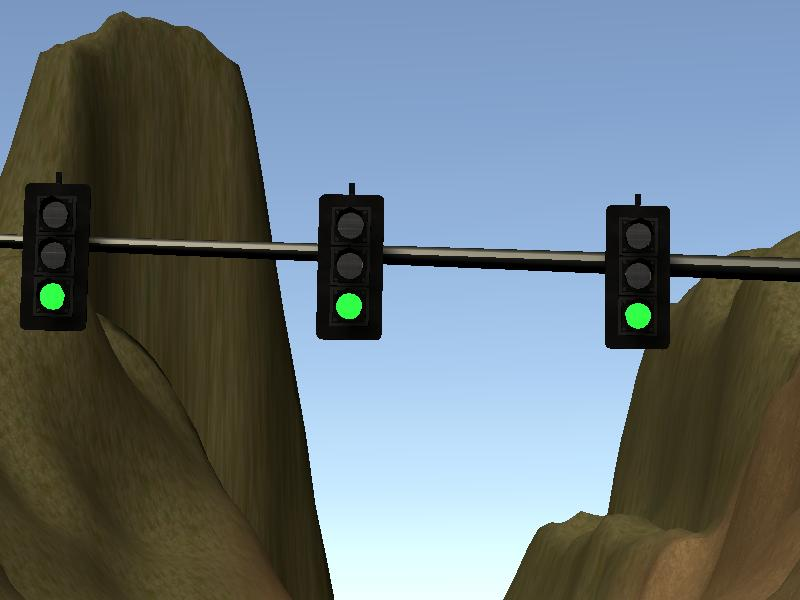green: (19, 178, 91, 333), (314, 189, 386, 344), (603, 199, 675, 354)
